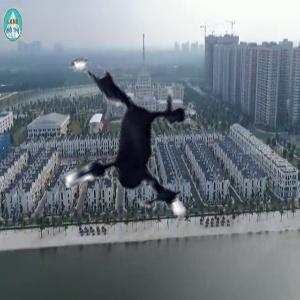drone: (7, 39, 229, 261)
